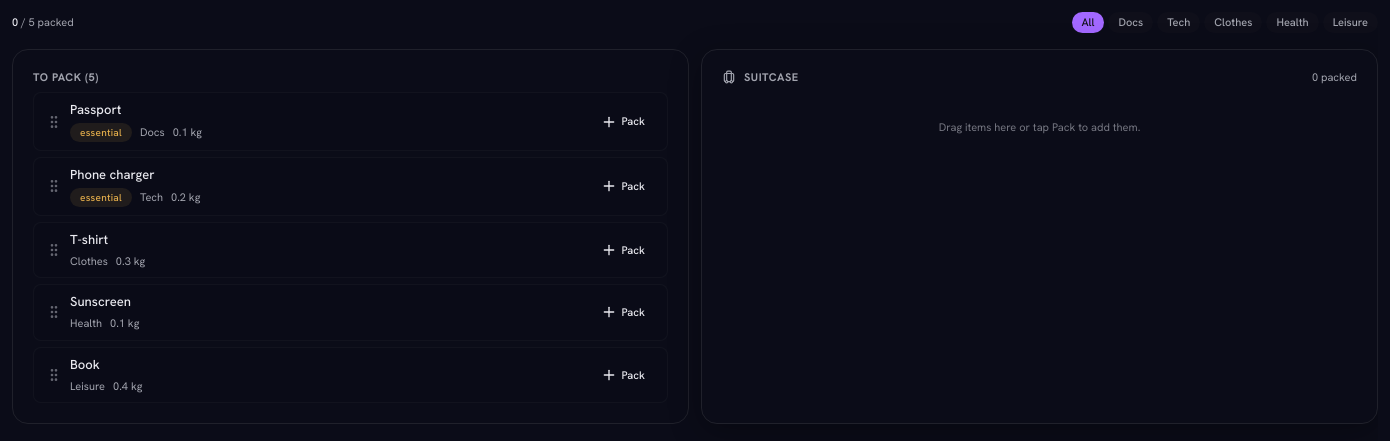
Test: PackingMission › should show the essentials warning when most non-essentials are packed but essentials remain
Note: Pack the three non-essentials
Step 1. Click the button with aria-label "Pack T-shirt" → (623,250), box [591,234,655,266]
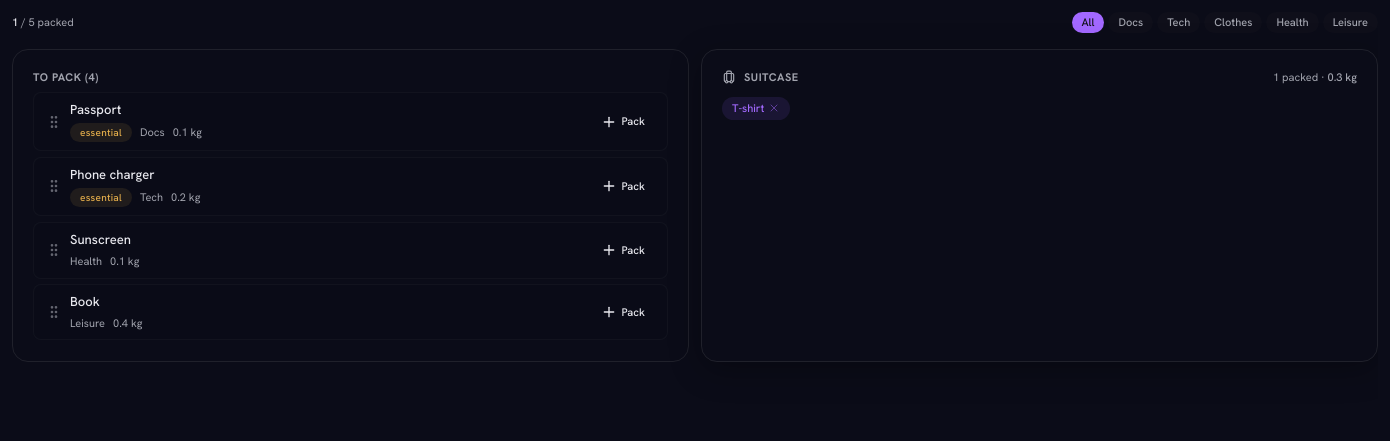
Step 2. Click the button with aria-label "Pack Sunscreen" → (623,250), box [591,234,655,266]
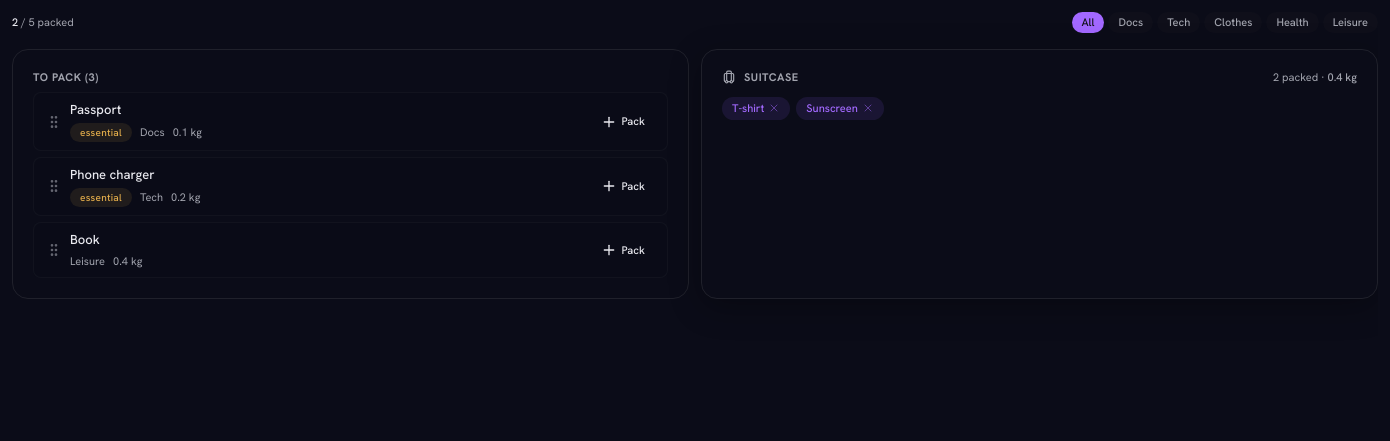
Step 3. Click the button with aria-label "Pack Book" → (623,250), box [591,234,655,266]
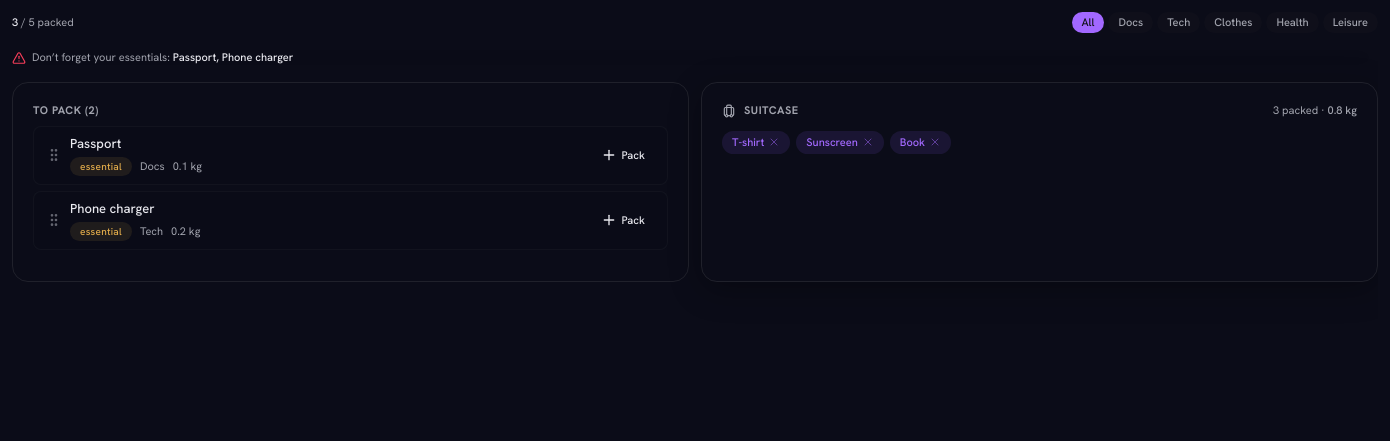
Expected: the text "Don’t forget your essentials: Passport, Phone charger" is shown, [32,48,293,66]
Expected: the text "Passport, Phone charger" is shown, [173,50,293,64]
